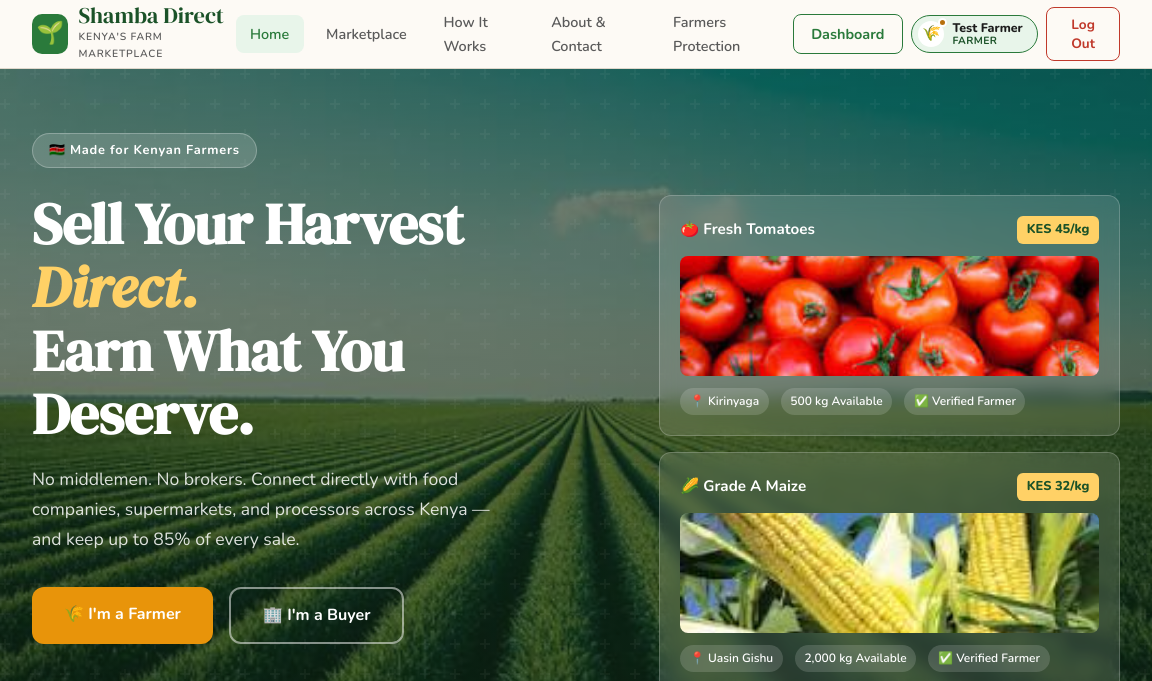
Test: shows order tracking with three stages in the dashboard
What coordinates should you click on to do the following:
click the link "Dashboard"
I would click on:
 (848, 34)
Its box is [793, 14, 903, 54].
(page scrolled)
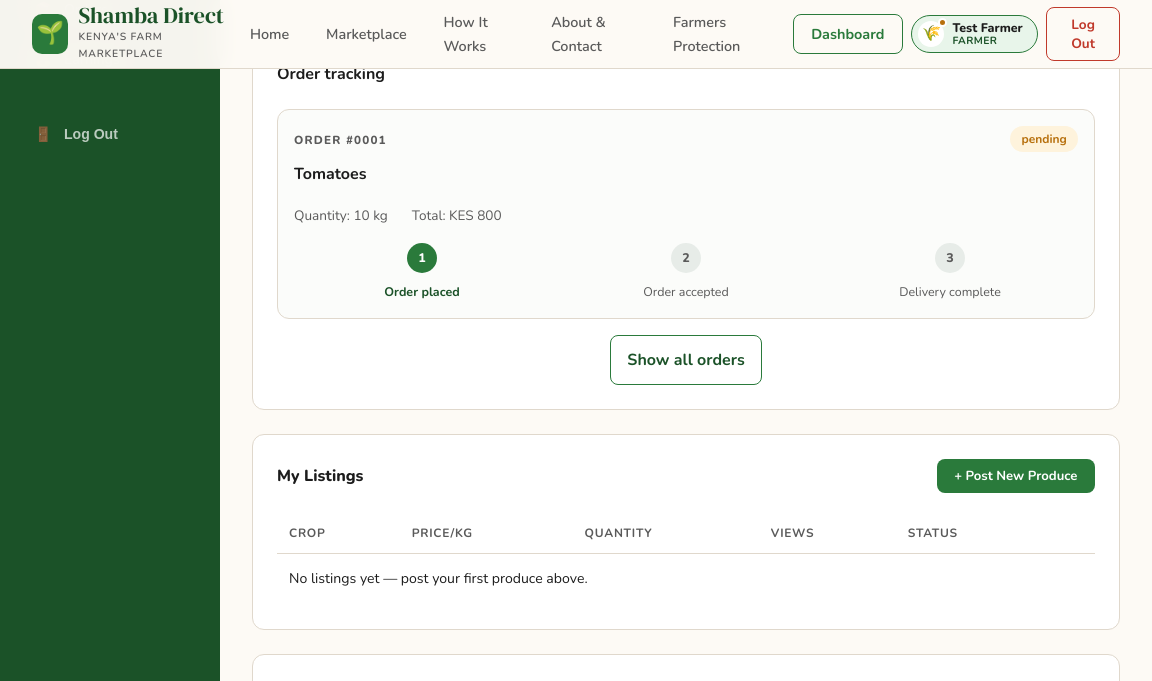
Check: the text "ORDER #0001" is shown, box [294, 132, 387, 148]
Check: the text "Order placed" is shown, box [384, 281, 460, 302]
Check: the text "Order accepted" is shown, box [643, 281, 729, 302]
What coordinates should you click on to do the following:
click the button "Show all orders"
I would click on:
 (686, 360)
Its box is [610, 335, 762, 385].
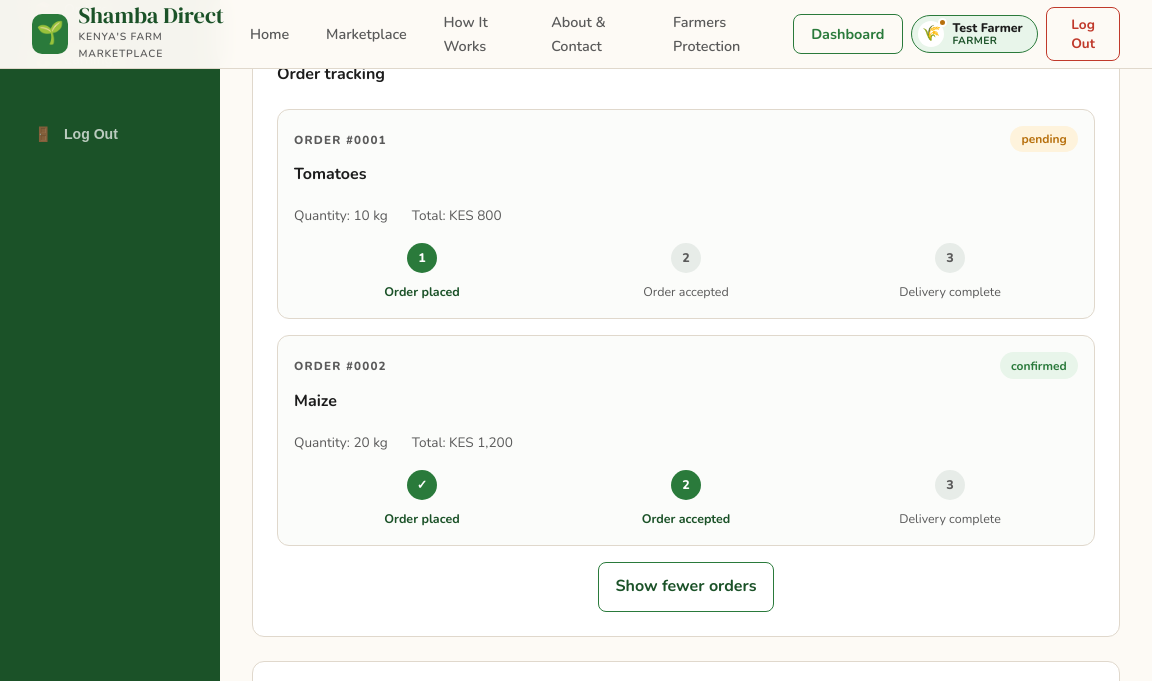
Check: the text "ORDER #0002" is shown, box [294, 358, 387, 374]
